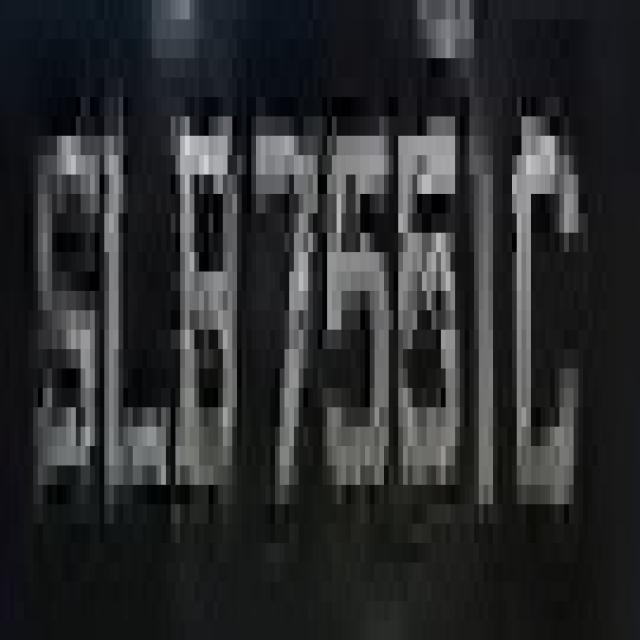1: (3, 1, 4, 20)
5: (379, 78, 465, 582), (308, 58, 389, 582)
7: (246, 58, 313, 543)
B: (171, 78, 237, 562)
C: (507, 97, 602, 640)
L: (86, 59, 176, 562)
S: (24, 39, 95, 524)
